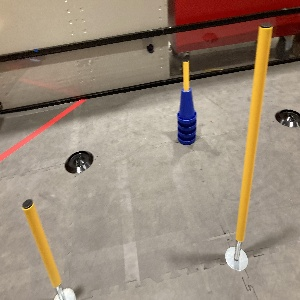Blue_4: (174, 84, 198, 147)
